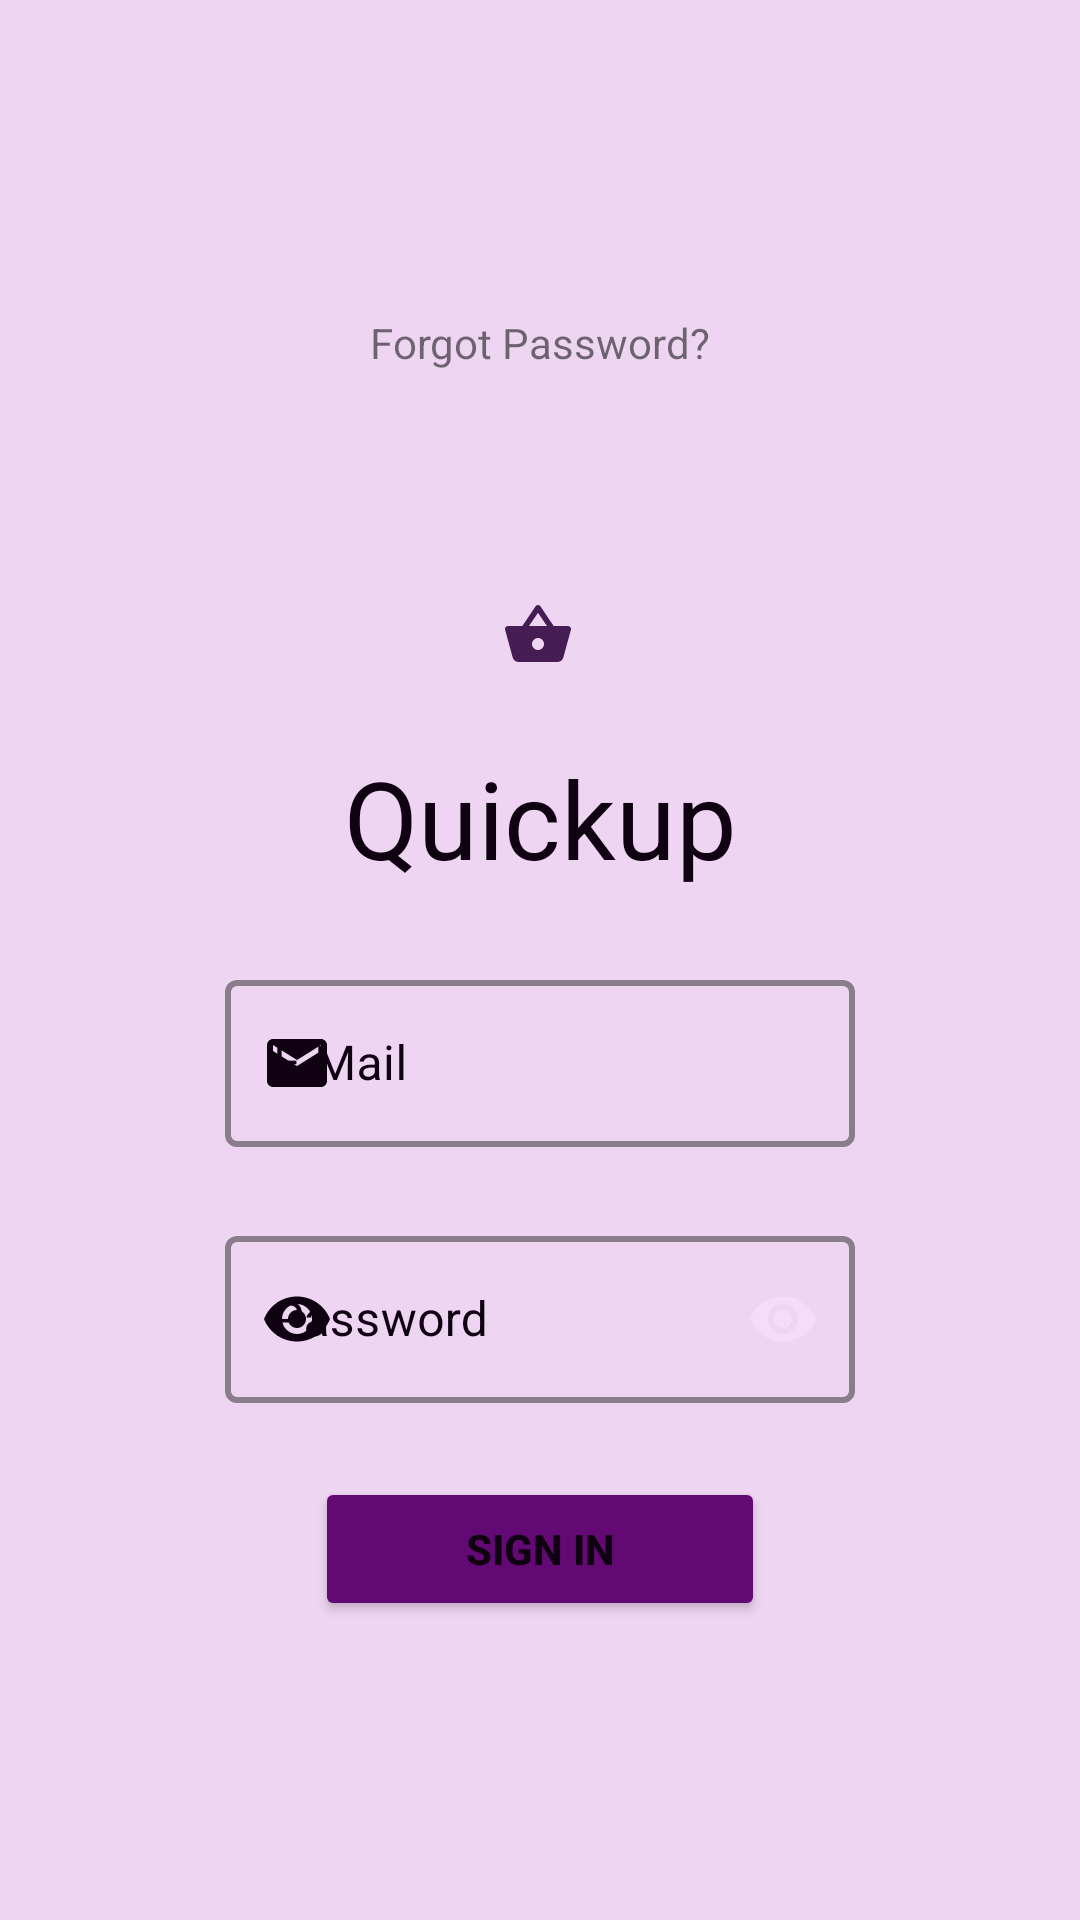

Where icons sit on this 1080*1920 app screen, as (x1, y1, x2, y2):
shopping basket: (505, 605, 571, 662)
